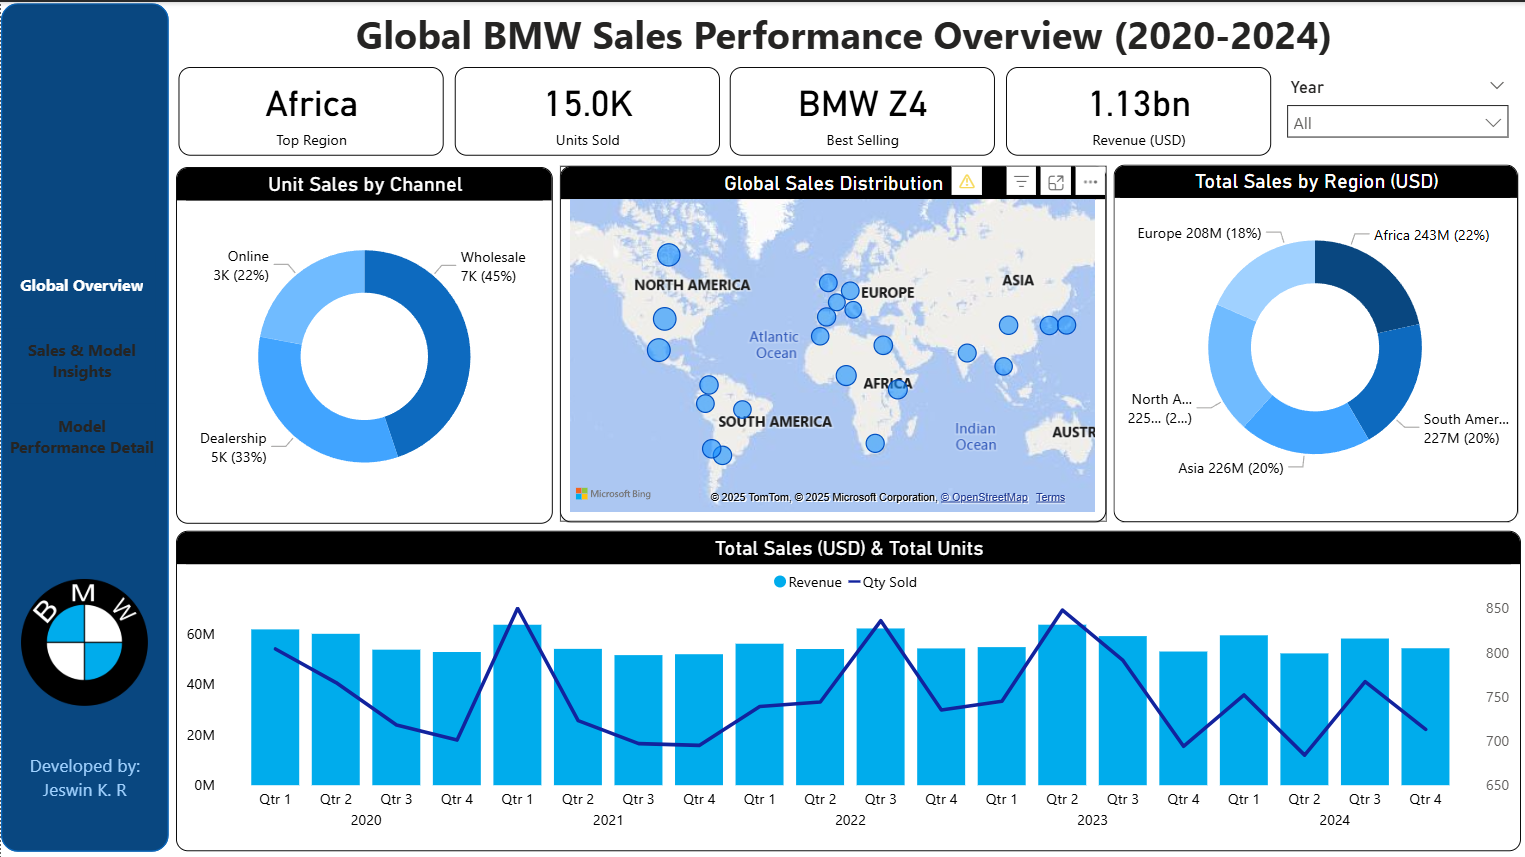

The dashboard page shown, as its layout file describes it:
{"tool":"powerbi","page":{"name":"Global Overview","canvas":[1280,720],"ordinal":0},"visuals":[{"type":"card","fields":{"Values":["Min(dim_country.Region)"]},"box":[148.8,54.7,222.1,74.4],"z":0},{"type":"card","fields":{"Values":["fact_Sales.Qty Sold"]},"box":[380.2,54.7,222.1,74.4],"z":1000},{"type":"card","fields":{"Values":["Max(dim_model.Model)"]},"box":[611.6,54.7,222.1,74.4],"z":2000},{"type":"card","fields":{"Values":["fact_Sales.Revenue"]},"box":[843,54.7,222.1,74.4],"z":3000},{"type":"lineClusteredColumnComboChart","title":"Total Sales (USD) & Total Units","fields":{"Y":["fact_Sales.Revenue"],"Y2":["fact_Sales.Qty Sold"],"Category":["Calender.Date.Variation.Date Hierarchy.Year","Calender.Date.Variation.Date Hierarchy.Quarter"]},"box":[146.5,443,1127.9,268.6],"z":4000},{"type":"donutChart","title":"Total Sales by Region (USD)","fields":{"Category":["dim_country.Region"],"Y":["fact_Sales.Revenue"]},"box":[932.7,136.7,338.9,299.8],"z":5000},{"type":"donutChart","title":"Unit Sales by Channel","fields":{"Category":["dim_channel.Channel"],"Y":["fact_Sales.Qty Sold"]},"box":[146.5,138.4,316.3,298.8],"z":6000},{"type":"map","title":"Global Sales Distribution","fields":{"Category":["dim_country.Country"],"Size":["fact_Sales.Revenue"]},"box":[468.6,137.2,458.1,298.8],"z":7000},{"type":"slicer","fields":{"Values":["fact_Sales.Year"]},"box":[1068.3,57.2,205.6,72.4],"z":8000},{"type":"shape","box":[0,1.2,140.7,711.6],"z":9000},{"type":"image","box":[0,479.1,140.7,116.3],"z":10000},{"type":"pageNavigator","box":[5.8,210.5,123.3,179.1],"z":11000},{"type":"textbox","box":[146.5,0,1120.9,54.7],"z":12000},{"type":"textbox","box":[0,624.4,140.7,59.3],"z":13000}]}

Visuals, with their boxes in screenshot pixels (x1, y1, x2, y2), scaled from the page's 1280x720 canvas onto the 1525x857 screenshot:
card - Min(dim_country.Region): bbox=[177, 65, 442, 154]
card - fact_Sales.Qty Sold: bbox=[453, 65, 718, 154]
card - Max(dim_model.Model): bbox=[729, 65, 993, 154]
card - fact_Sales.Revenue: bbox=[1004, 65, 1269, 154]
"Total Sales (USD) & Total Units" lineClusteredColumnComboChart: bbox=[175, 527, 1518, 847]
"Total Sales by Region (USD)" donutChart: bbox=[1111, 163, 1515, 520]
"Unit Sales by Channel" donutChart: bbox=[175, 165, 551, 520]
"Global Sales Distribution" map: bbox=[558, 163, 1104, 519]
slicer - fact_Sales.Year: bbox=[1273, 68, 1518, 154]
shape: bbox=[0, 1, 168, 848]
image: bbox=[0, 570, 168, 709]
pageNavigator: bbox=[7, 251, 154, 464]
textbox: bbox=[175, 0, 1510, 65]
textbox: bbox=[0, 743, 168, 814]
